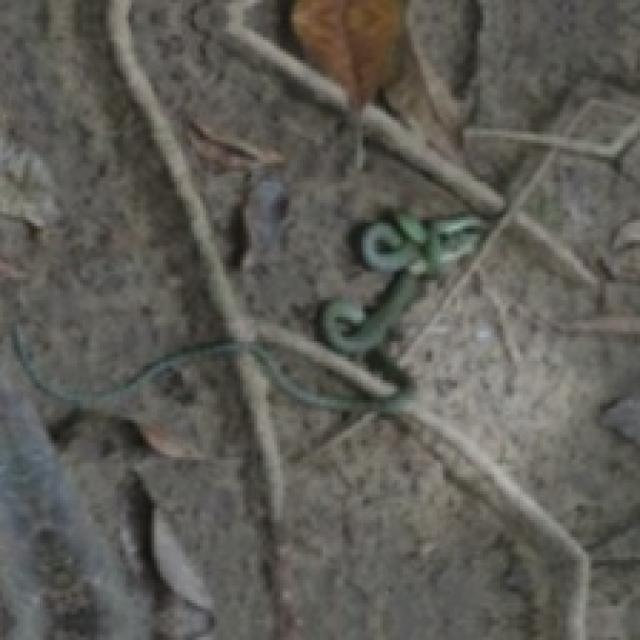paradise tree snake: (377, 240, 620, 637), (280, 400, 517, 629), (254, 211, 486, 397), (137, 454, 243, 514)
